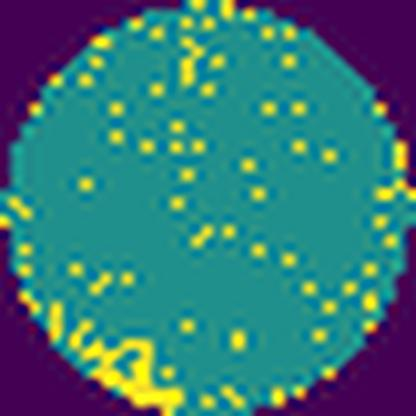Edge-Loc: (67, 317, 193, 415)
